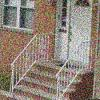stairs: (8, 49, 81, 100)
